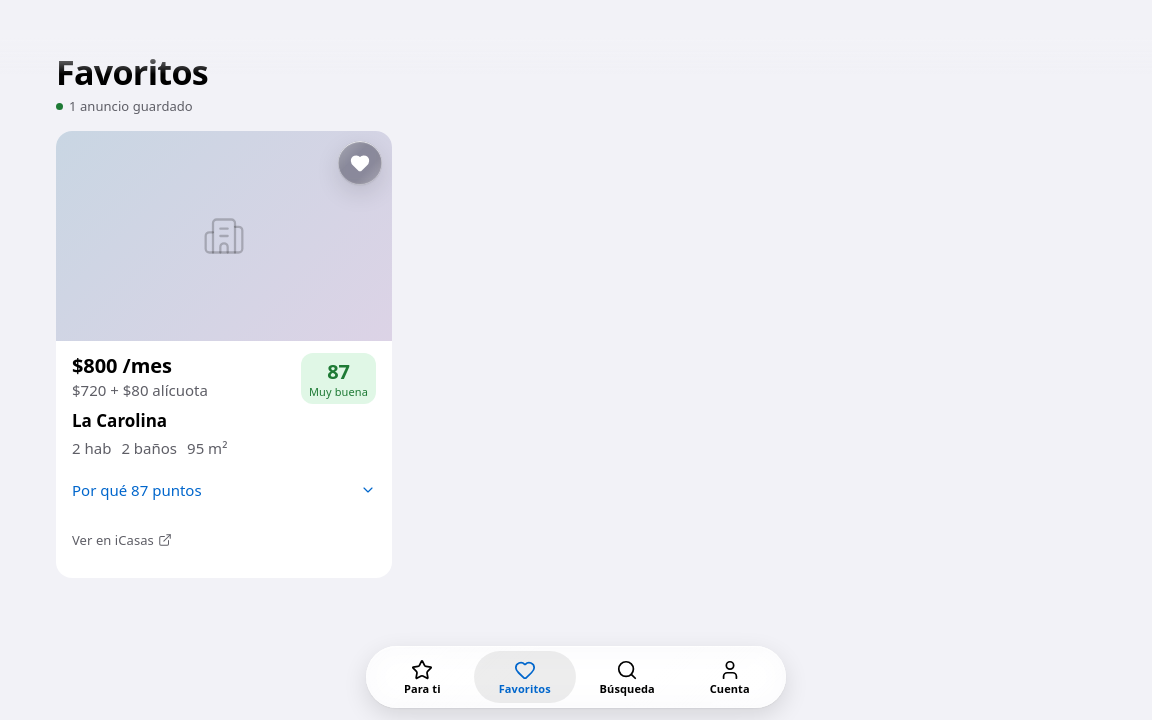
Saving and discarding listings › removes a listing from Favoritos when the heart is turned off
The width and height of the screenshot is (1152, 720).
Click the button named "Quitar La Carolina de favoritos": (360, 163) [338,141,382,185]
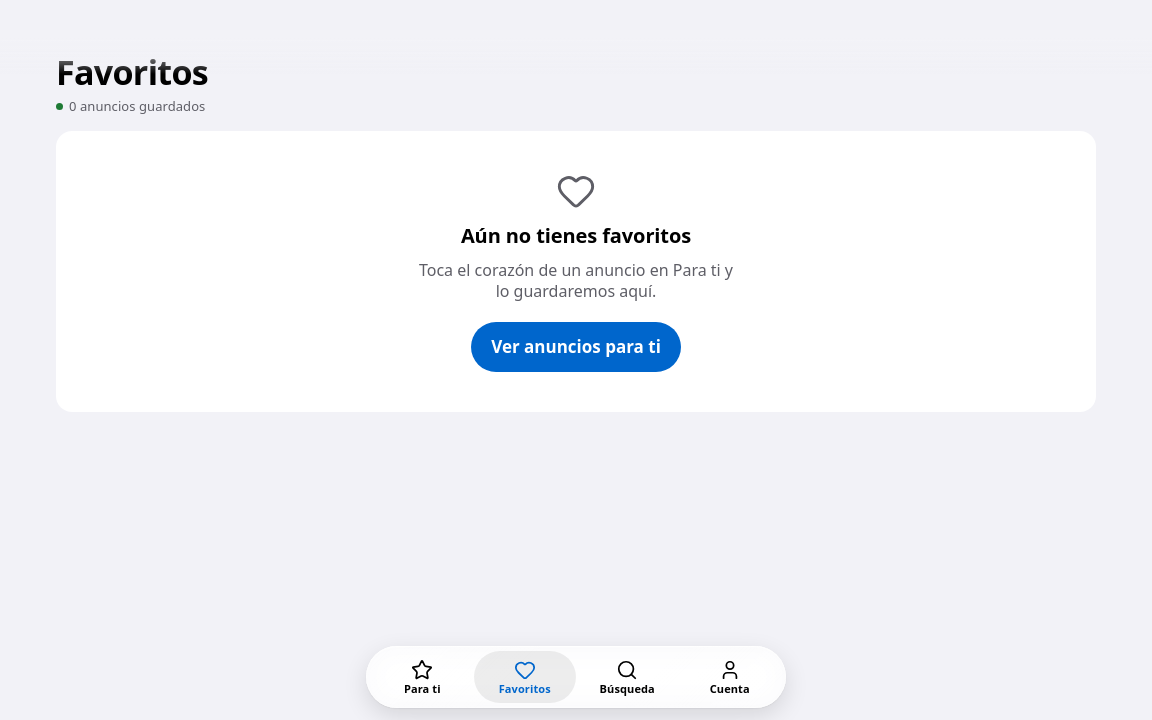
Now the heading "Aún no tienes favoritos" is shown, box [461,223,691,248]
